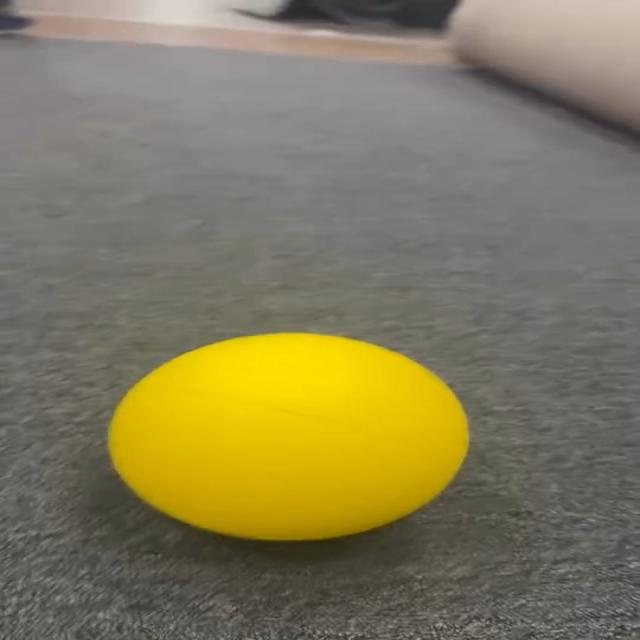Fuels: (108, 333, 465, 538)
